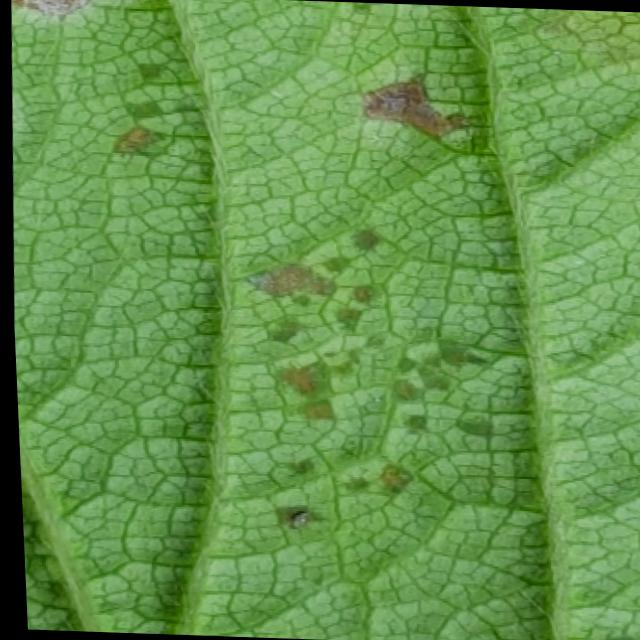Angular Leafspot: (11, 0, 640, 640)
